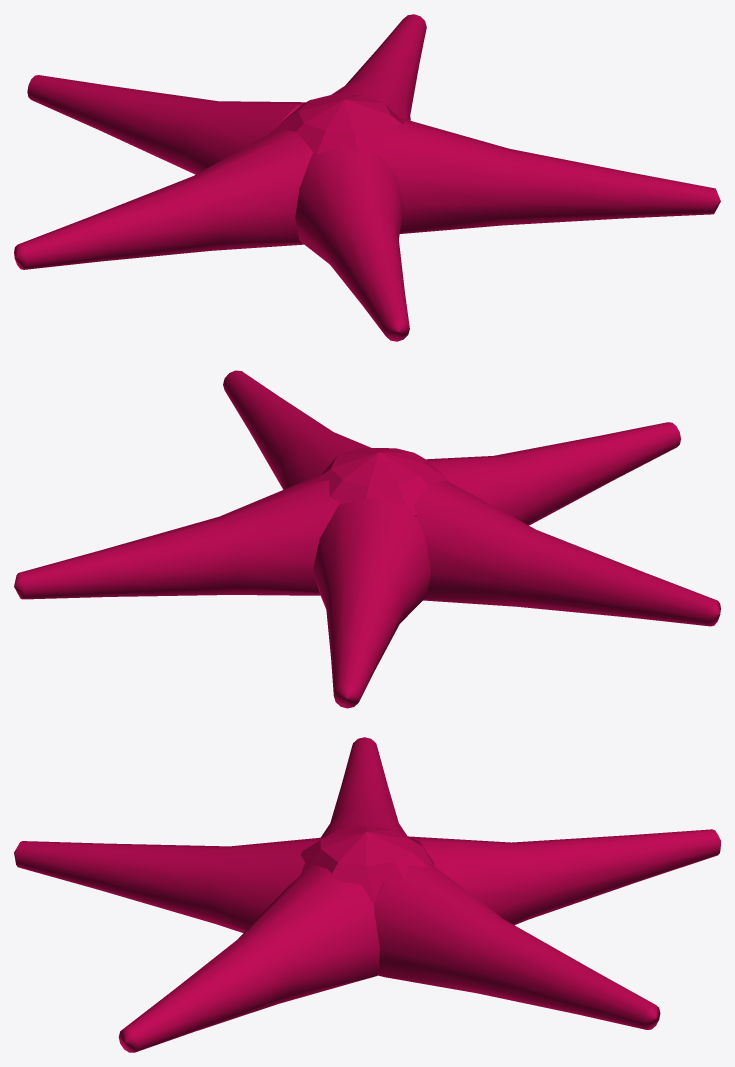
Rendered from starfish_red.fbx.
3 views of the same model, one above another, from view 1: azimuth 30°, elevation 25°; view 2: azimuth 150°, elevation 25°; view 3: azimuth 270°, elevation 25° (orthographic). The views are drawn at different scales.
Parts seen in each view (by area): view 1: pCone6; view 2: pCone6; view 3: pCone6.
Part boxes in pixels (left/top/right/bottom): pCone6: left=14, top=14, right=720, bottom=341; pCone6: left=14, top=370, right=720, bottom=708; pCone6: left=14, top=737, right=720, bottom=1052.
Size of the model in its own units: 10.51 by 2.18 by 10.61.
